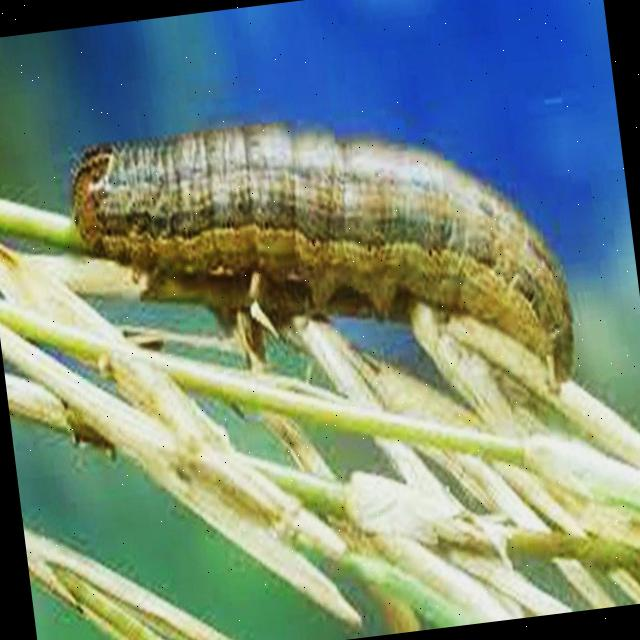worm: (62, 83, 588, 458)
